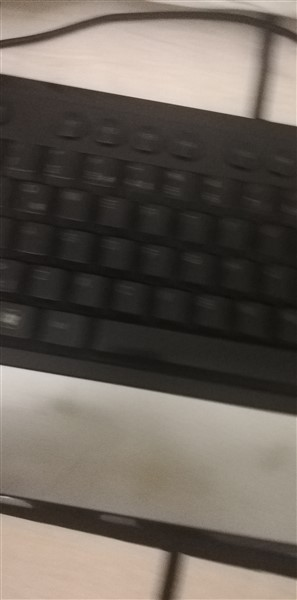klavye: (1, 89, 295, 551)
